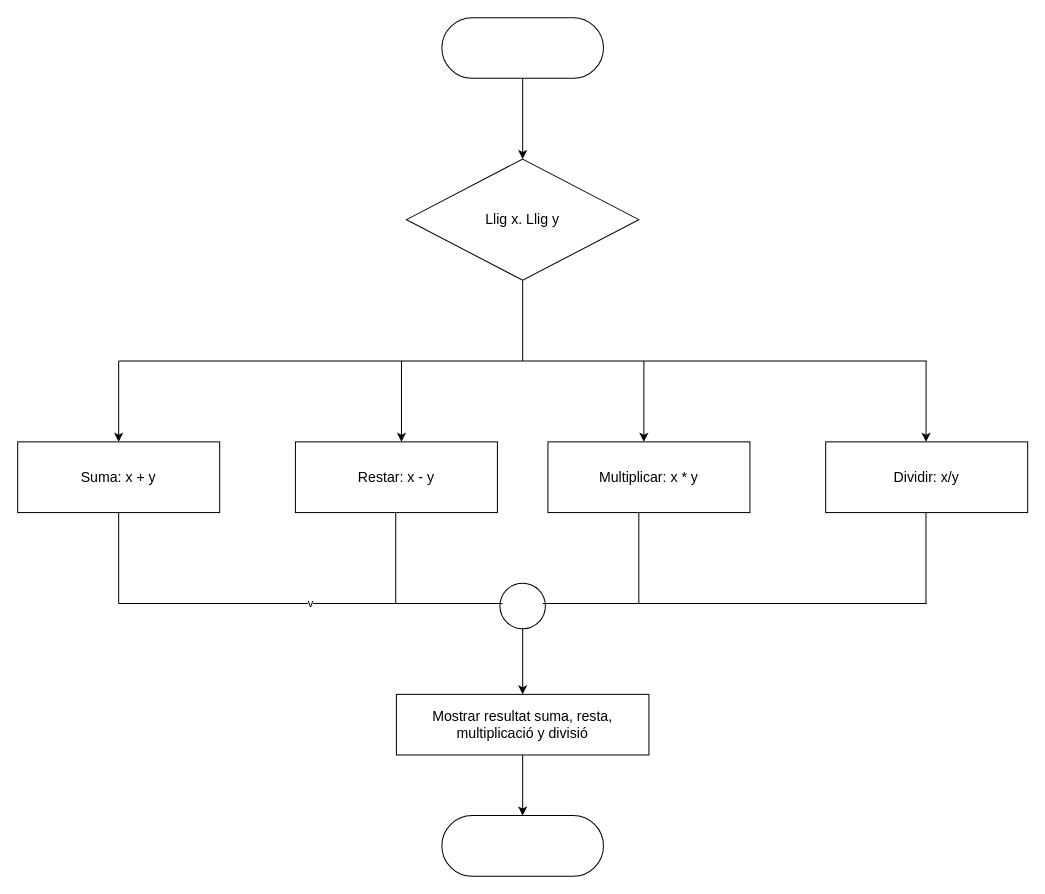
The diagram is 1045 pixels wide and 894 high, and some of its shapes have lost their labels. Here are the shapes that lost their labels. From the top down, the centre of each, then its label:
At point (522, 47): "Inici".
At point (522, 845): "Fi".
